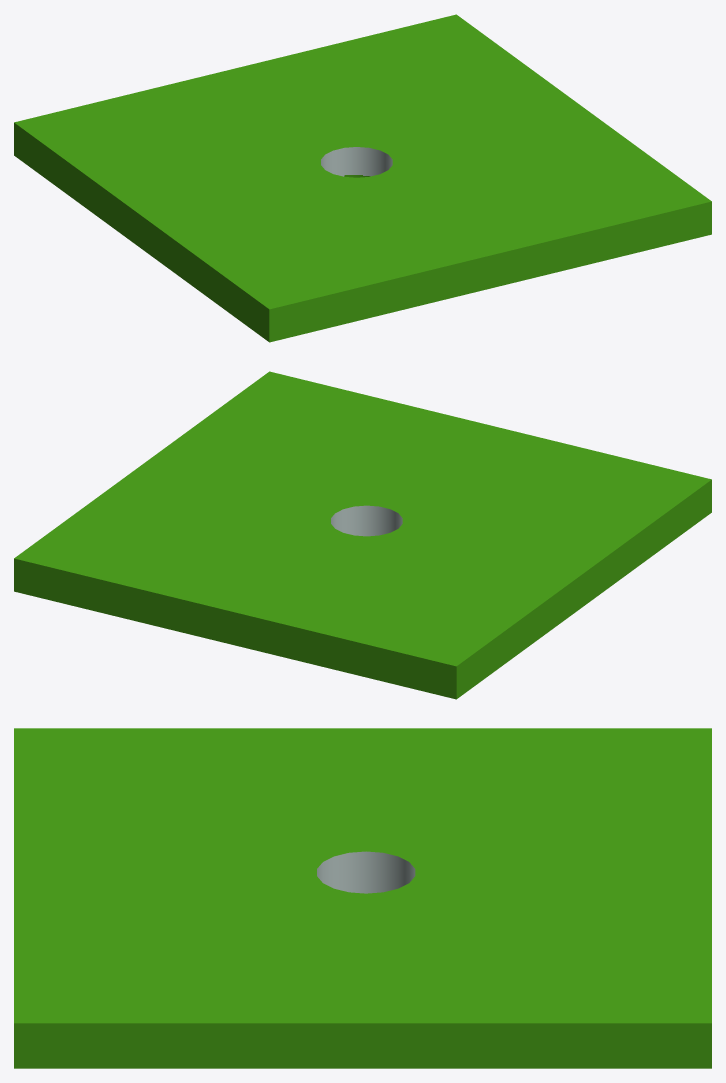
Rendered from Meta.fbx.
The picture shows the model from 3 angles, top to bottom: view 1: azimuth 30°, elevation 25°; view 2: azimuth 150°, elevation 25°; view 3: azimuth 270°, elevation 25°; orthographic projection. The views are drawn at different scales.
Visible parts, largest first — view 1: Meta; view 2: Meta; view 3: Meta.
Part boxes in pixels (x1,y1,x2,y2): Meta: [14, 14, 711, 342]; Meta: [14, 371, 711, 699]; Meta: [14, 728, 711, 1068].
Bounding box in the file's own units: 70 × 5 × 70.
Materials: 1 (1 with a texture image).
